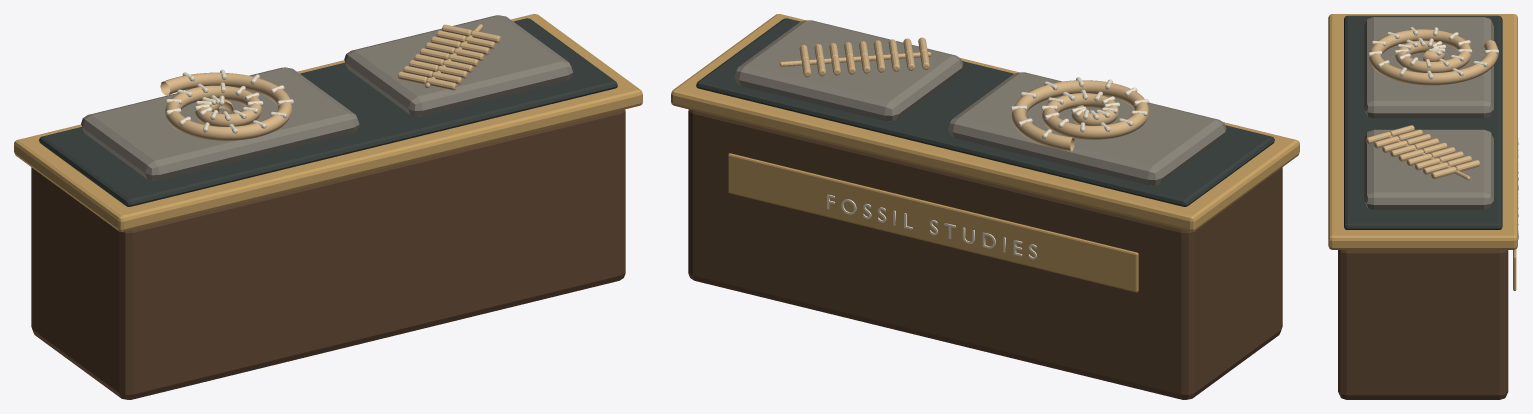
Rendered from FossilCabinet.glb.
3 views of the same model, side by side, from view 1: azimuth 30°, elevation 25°; view 2: azimuth 150°, elevation 25°; view 3: azimuth 270°, elevation 25° (orthographic). The views are drawn at different scales.
Visible parts, largest first — view 1: Cabinet body, Recessed felt tray, Display bronze lip, Shale ammonite slab, Leaf impression shale, Ammonite coiled shell; view 2: Cabinet body, Display bronze lip, Cabinet label plate, Recessed felt tray, Shale ammonite slab, Leaf impression shale, Ammonite coiled shell, Text; view 3: Cabinet body, Display bronze lip, Recessed felt tray, Shale ammonite slab, Leaf impression shale, Ammonite coiled shell, Fern leaflet impression.016, Fern leaflet impression.008, Fern leaflet impression.004, Fern leaflet impression.014, Fern leaflet impression.012, Fern leaflet impression.010.
Boxes of the visible parts, bbox=[...] form: Cabinet body: bbox=[31, 109, 625, 399]; Recessed felt tray: bbox=[39, 18, 617, 206]; Display bronze lip: bbox=[14, 14, 642, 231]; Shale ammonite slab: bbox=[81, 67, 359, 180]; Leaf impression shale: bbox=[344, 15, 572, 116]; Ammonite coiled shell: bbox=[160, 72, 292, 140]; Cabinet body: bbox=[688, 109, 1282, 399]; Display bronze lip: bbox=[671, 14, 1299, 231]; Cabinet label plate: bbox=[728, 153, 1138, 292]; Recessed felt tray: bbox=[696, 18, 1274, 206]; Shale ammonite slab: bbox=[948, 72, 1226, 185]; Leaf impression shale: bbox=[734, 20, 962, 121]; Ammonite coiled shell: bbox=[1011, 80, 1149, 151]; Text: bbox=[827, 194, 1036, 259]; Cabinet body: bbox=[1338, 250, 1508, 399]; Display bronze lip: bbox=[1328, 14, 1517, 249]; Recessed felt tray: bbox=[1344, 15, 1502, 229]; Shale ammonite slab: bbox=[1364, 17, 1493, 118]; Leaf impression shale: bbox=[1364, 129, 1493, 209]; Ammonite coiled shell: bbox=[1368, 29, 1498, 85]; Fern leaflet impression.016: bbox=[1431, 166, 1456, 178]; Fern leaflet impression.008: bbox=[1398, 149, 1423, 161]; Fern leaflet impression.004: bbox=[1382, 140, 1407, 152]; Fern leaflet impression.014: bbox=[1423, 162, 1448, 174]; Fern leaflet impression.012: bbox=[1415, 158, 1440, 170]; Fern leaflet impression.010: bbox=[1406, 153, 1432, 165].
Size of the model in its own units: 2.75 by 1.18 by 0.983.
